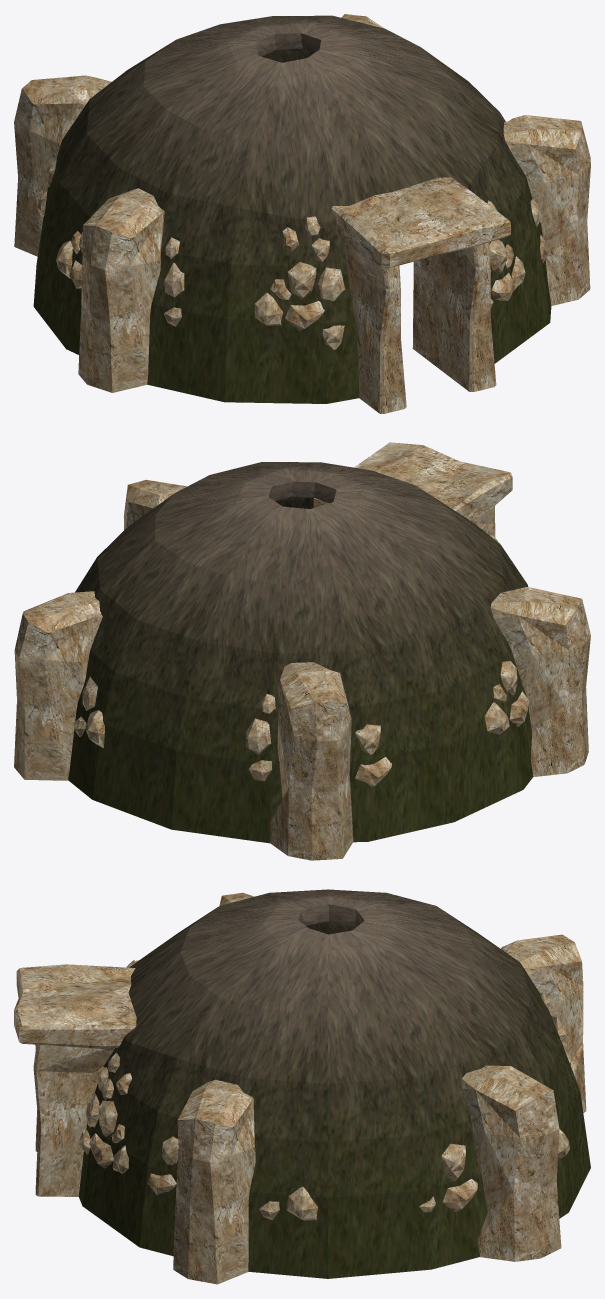
The model's file is thm_dant_large_mudhut_l0.fbx.
The picture shows the model from 3 angles, top to bottom: view 1: azimuth 30°, elevation 25°; view 2: azimuth 150°, elevation 25°; view 3: azimuth 270°, elevation 25°; orthographic projection. The views are drawn at different scales.
Visible parts, largest first — view 1: mesh_node; view 2: mesh_node; view 3: mesh_node.
Part boxes in pixels (x1=…): mesh_node: x1=14, y1=14, x2=590, y2=413; mesh_node: x1=14, y1=442, x2=590, y2=860; mesh_node: x1=14, y1=889, x2=590, y2=1284.
Bounding box in the file's own units: 16.25 × 7.9 × 16.67.
